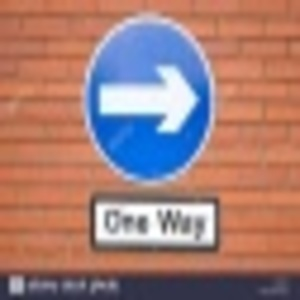trun_right: (81, 12, 214, 187)
